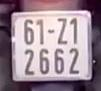1: (69, 16, 81, 45), (36, 18, 45, 46)
2: (22, 48, 36, 76), (68, 48, 82, 75)
6: (21, 18, 36, 46), (38, 47, 51, 75), (53, 47, 65, 75)
Z: (56, 17, 68, 46)
